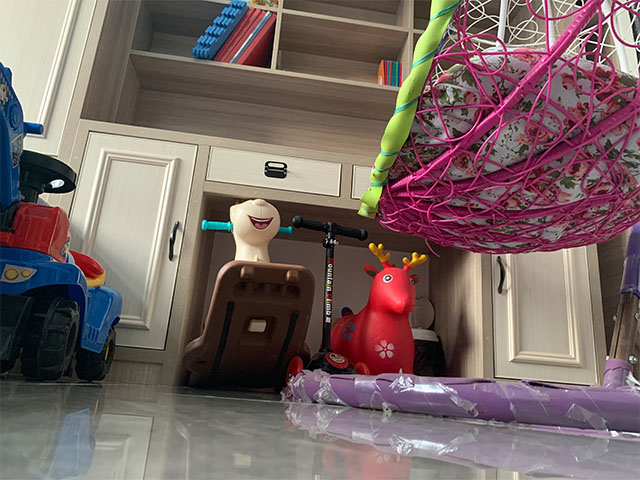cabinet: (64, 111, 221, 392)
